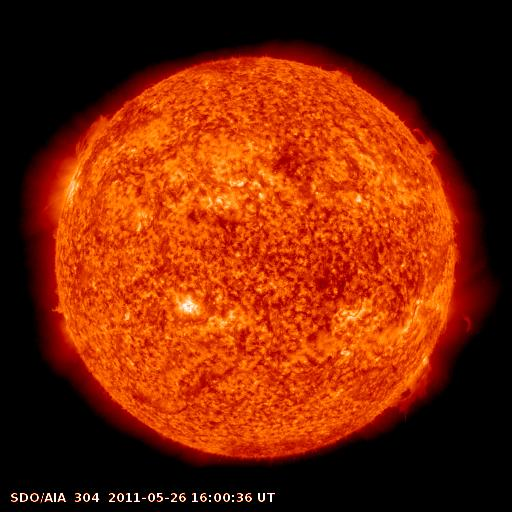prominence: (381, 352, 446, 420), (59, 108, 123, 163), (402, 117, 445, 169), (433, 301, 482, 340), (321, 57, 362, 91)
